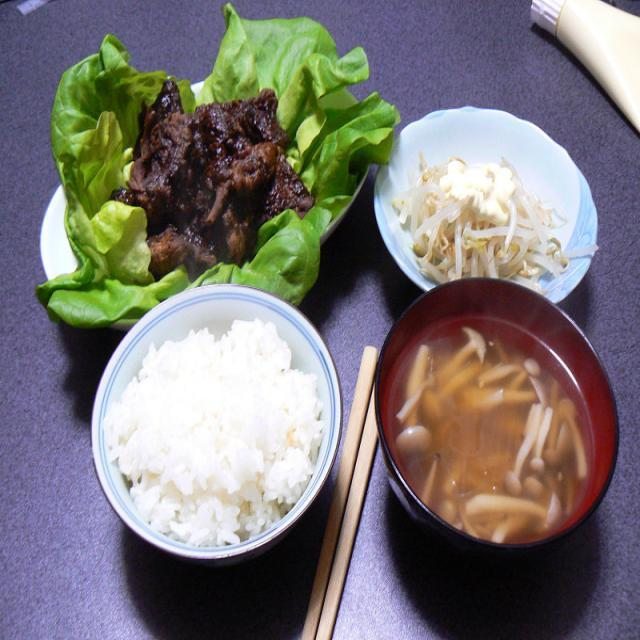Rice: (88, 307, 332, 559)
